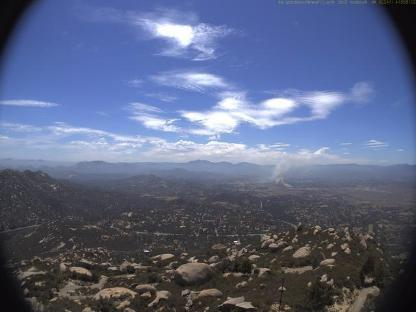smoke: (266, 154, 298, 192)
